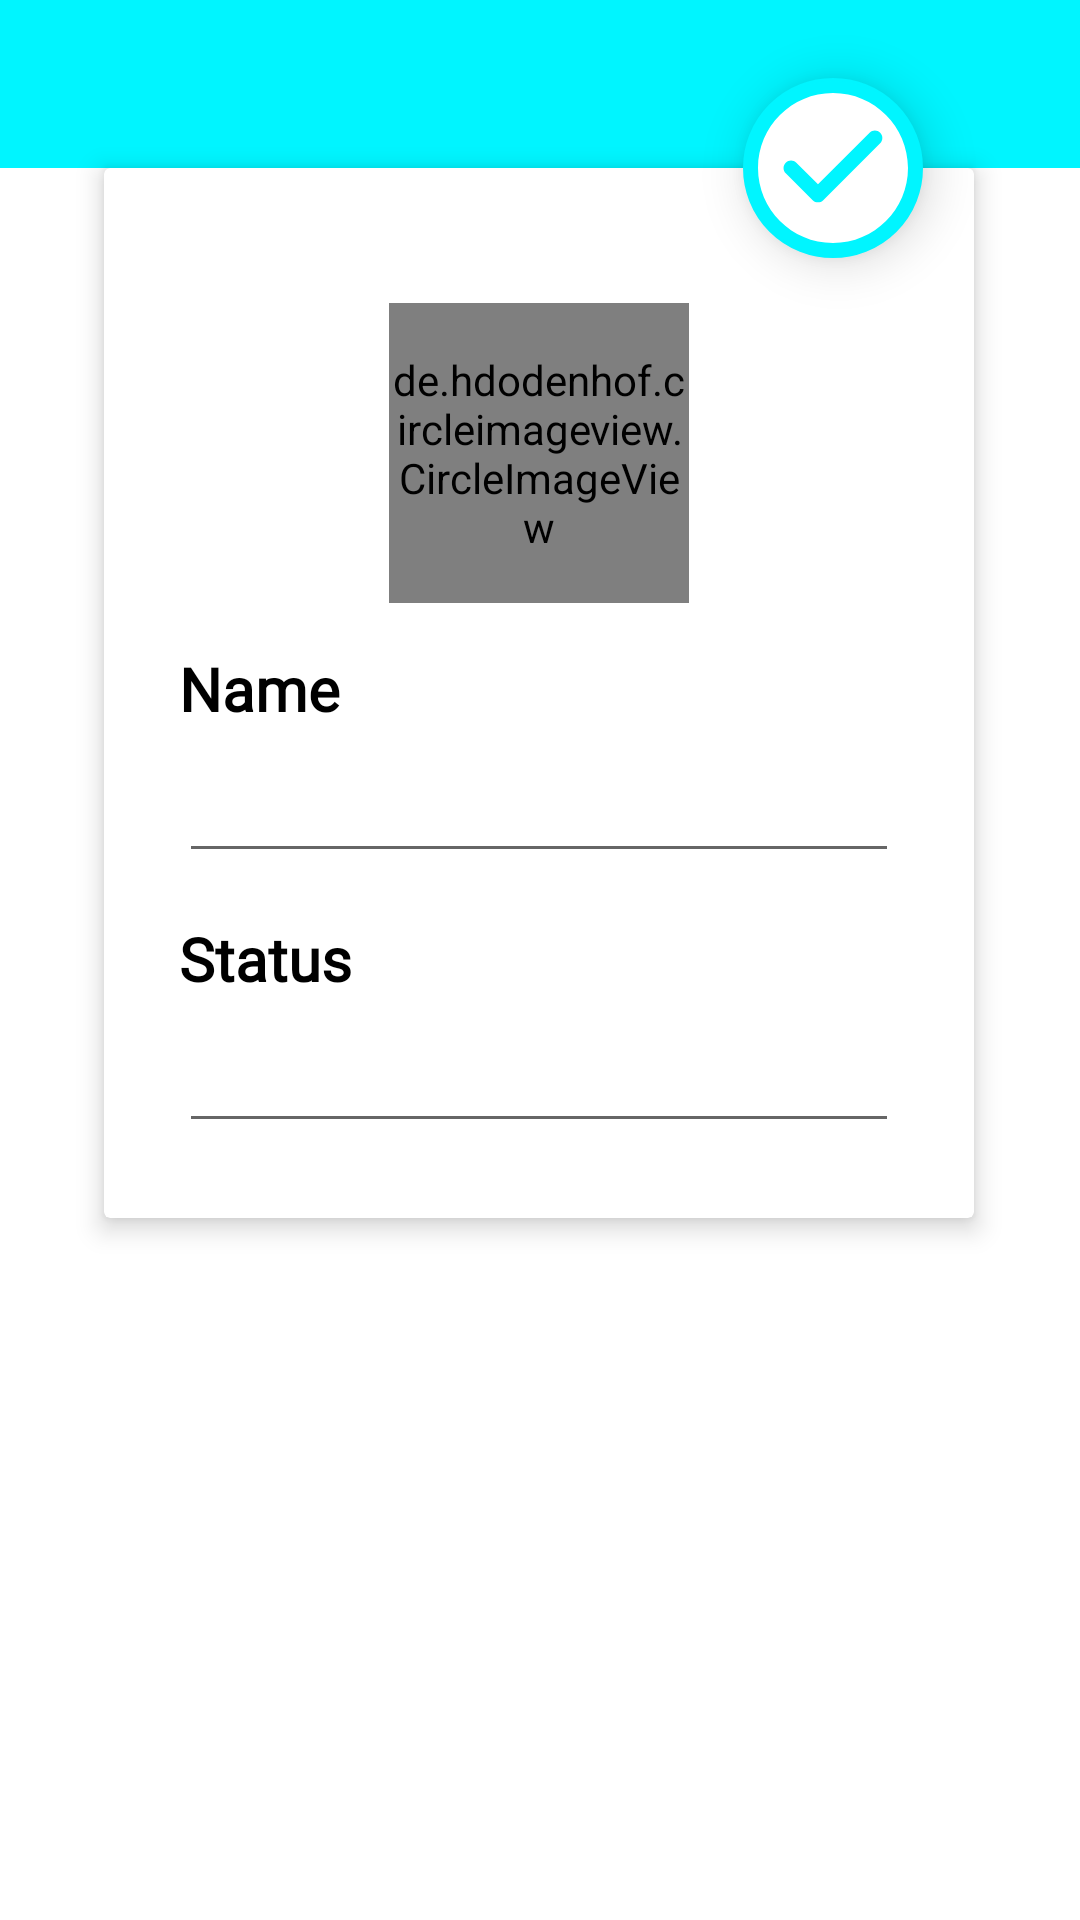

Screen size 1080px×1920px. Icon name, then its center in pixels as (x=x, y=y):
check circle: (x=833, y=168)
